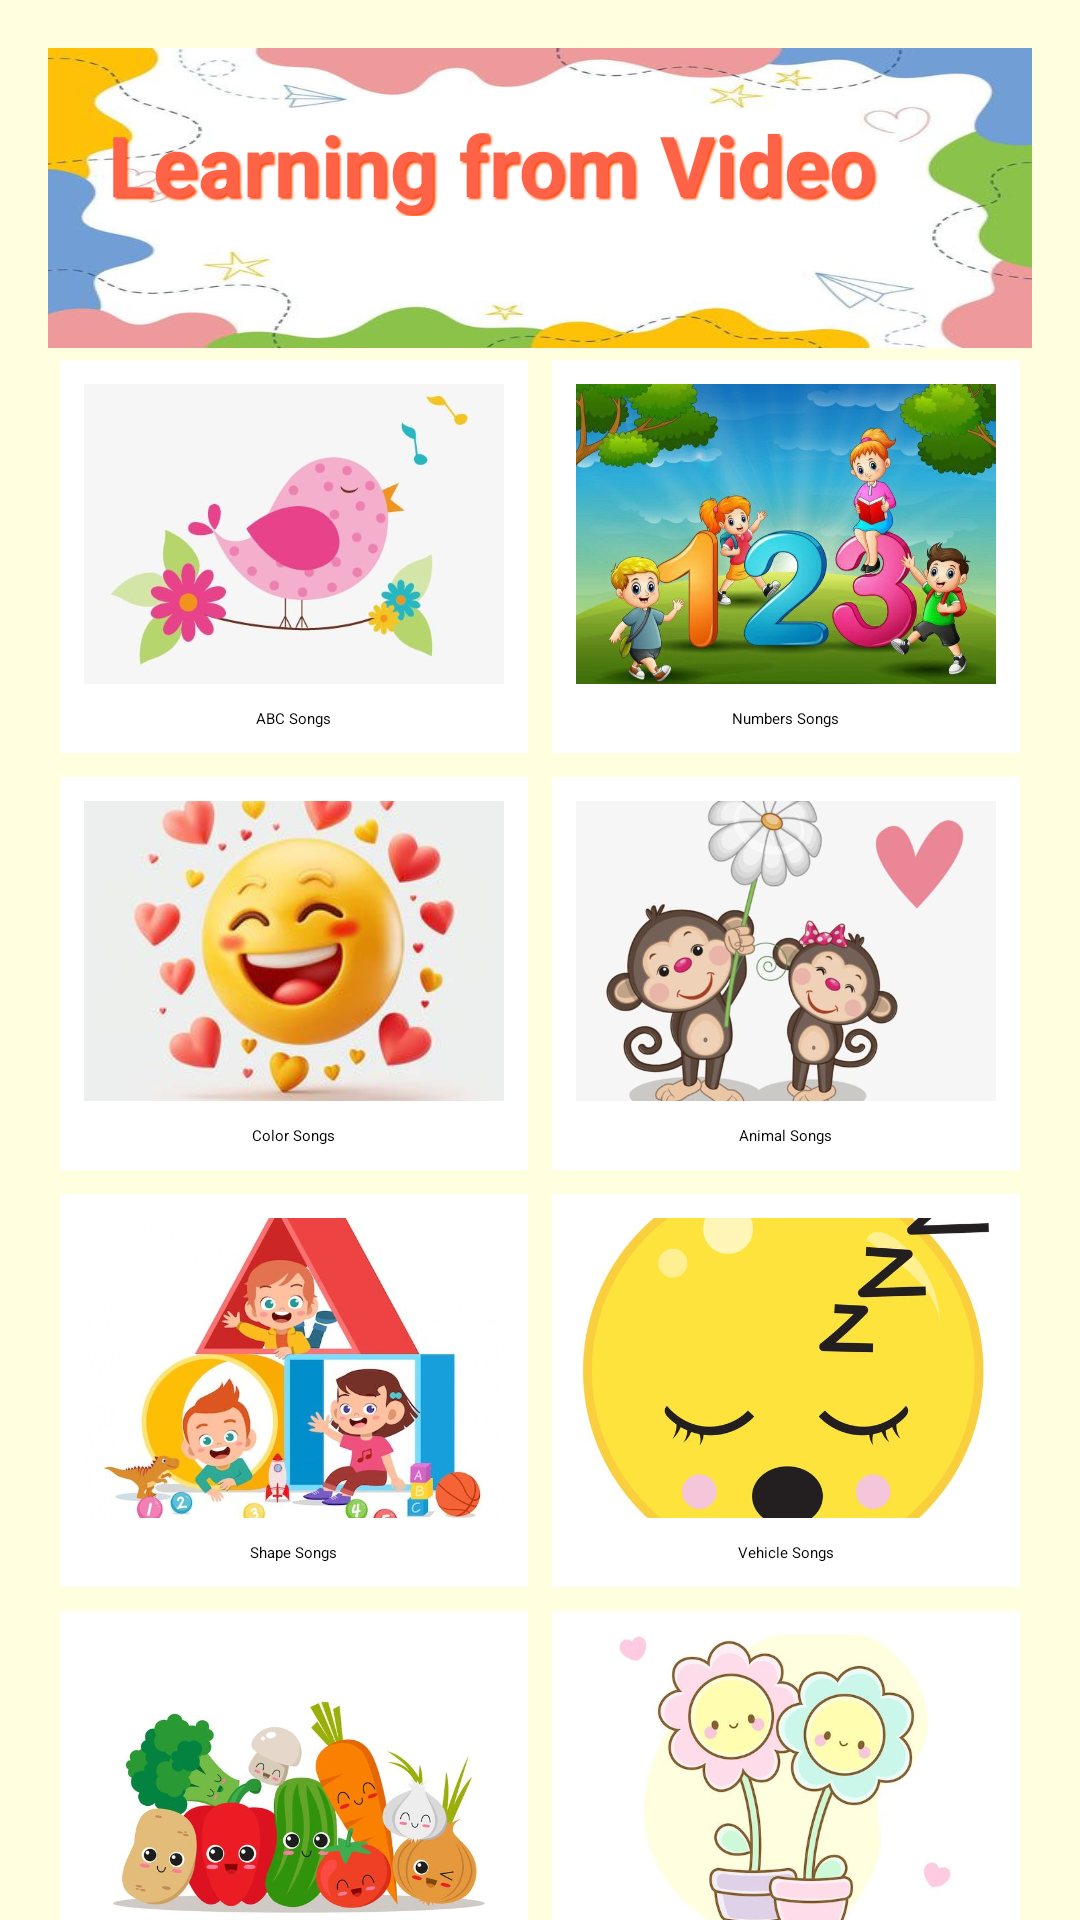

Screen size 1080×1920. Icon name, then its box in pixels as BBox(x1, y1, x2, y2):
flowers: BBox(620, 1635, 950, 1920)
happy: BBox(129, 801, 469, 1101)
